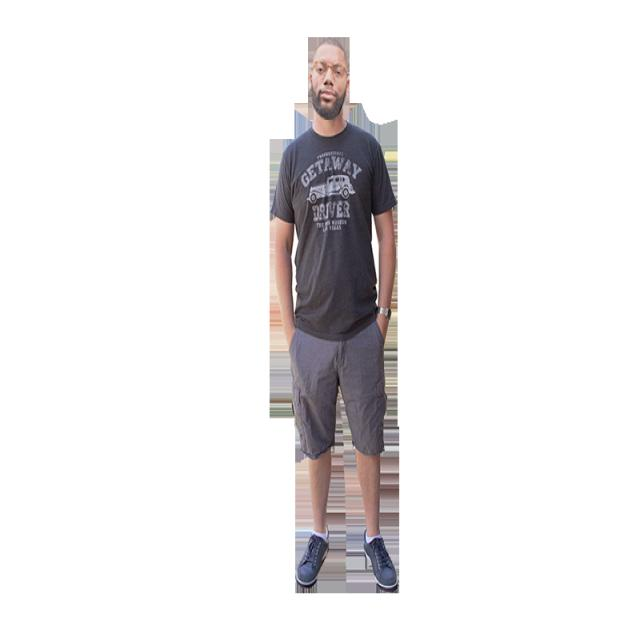jovem: (252, 45, 419, 597)
